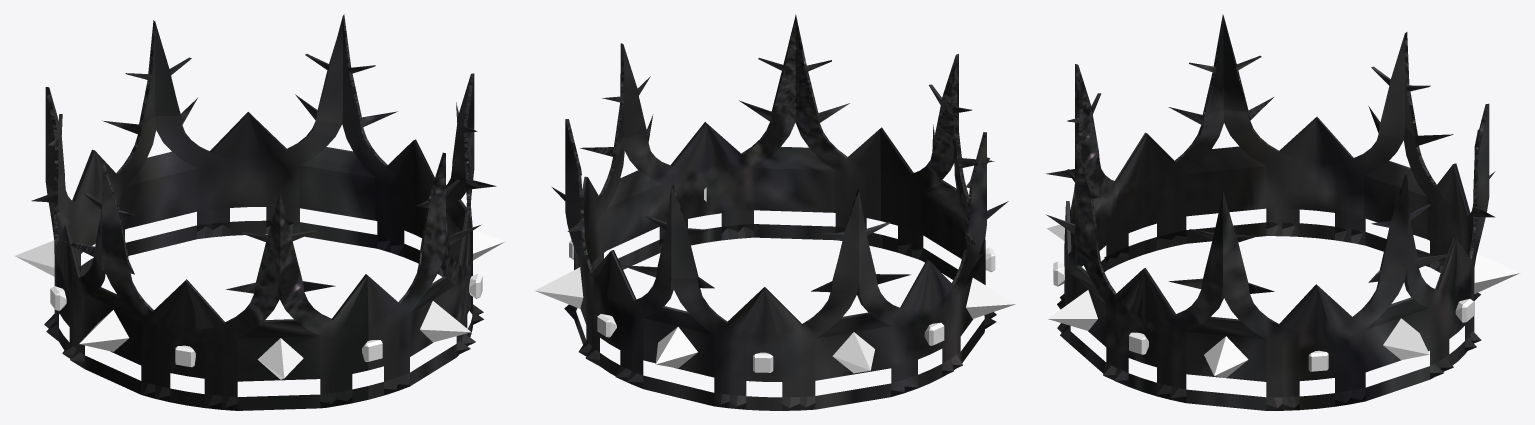
The model's file is crown.glb.
3 views of the same model, side by side, from view 1: azimuth 30°, elevation 25°; view 2: azimuth 150°, elevation 25°; view 3: azimuth 270°, elevation 25° (orthographic).
Visible parts, largest first — view 1: Цилиндр, Конус.006, Конус.007; view 2: Цилиндр, Конус.006, Конус.007; view 3: Цилиндр, Конус.006, Конус.007.
Part boxes in pixels (x1,y1,x2,y2): Цилиндр: [31, 14, 496, 410]; Конус.006: [15, 230, 505, 379]; Конус.007: [50, 273, 482, 367]; Цилиндр: [552, 14, 1008, 410]; Конус.006: [535, 267, 1015, 373]; Конус.007: [569, 187, 995, 372]; Цилиндр: [1045, 14, 1495, 410]; Конус.006: [1046, 224, 1520, 377]; Конус.007: [1053, 261, 1473, 371].
Size of the model in its own units: 6.71 by 3.35 by 6.57.
3 materials, 1 textured.
